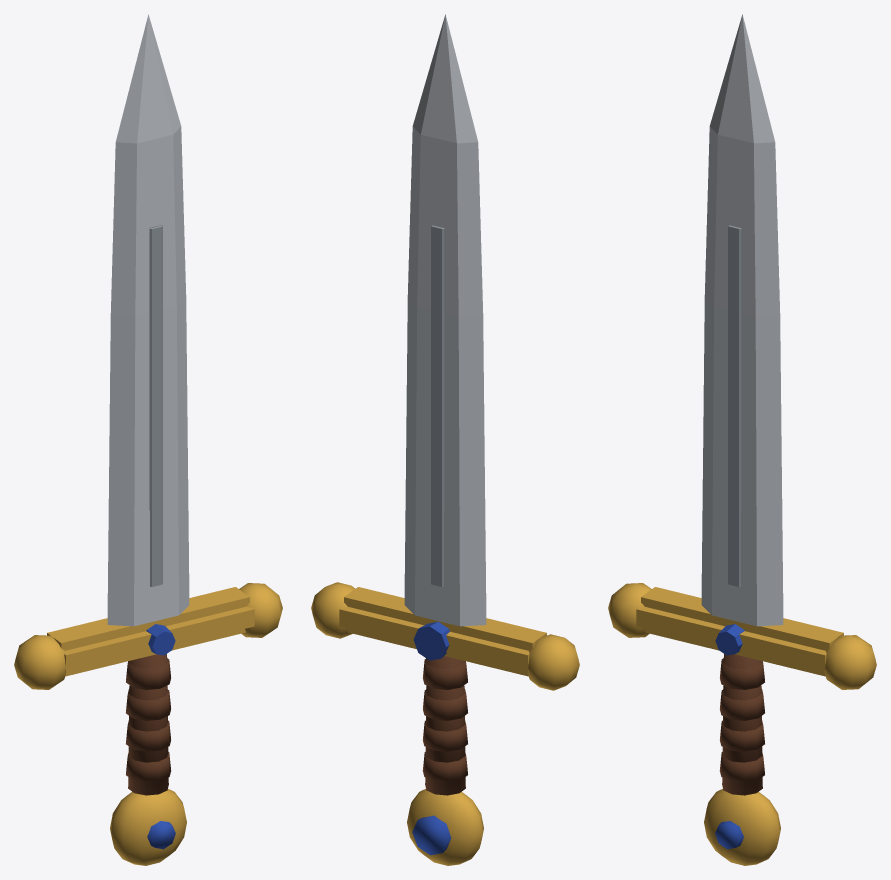
The model's file is warden-sword.low.glb.
The picture shows the model from 3 angles, left to right: view 1: azimuth 30°, elevation 25°; view 2: azimuth 150°, elevation 25°; view 3: azimuth 330°, elevation 25°; orthographic projection.
Visible parts, largest first — view 1: warden-sword; view 2: warden-sword; view 3: warden-sword.
Part boxes in pixels (x1,y1,x2,y2): warden-sword: [14, 14, 282, 865]; warden-sword: [311, 14, 579, 865]; warden-sword: [608, 14, 876, 865].
Bounding box in the file's own units: 0.317 × 0.99 × 0.066.
